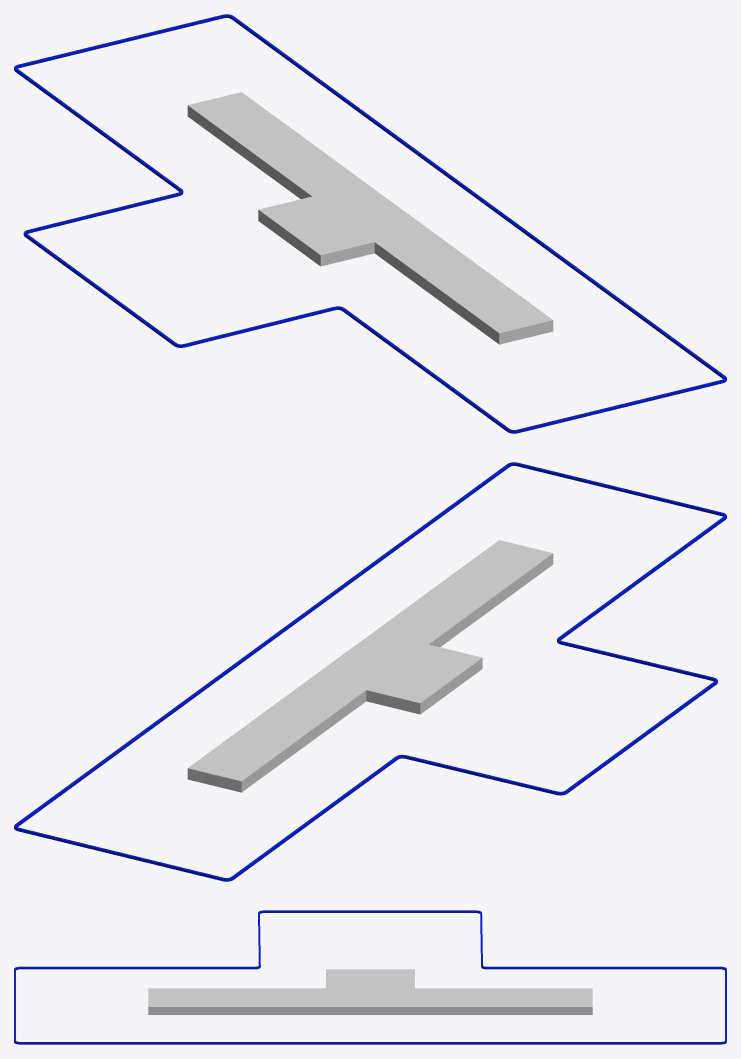
Rendered from snowplow_field.dae.
The picture shows the model from 3 angles, top to bottom: view 1: azimuth 30°, elevation 25°; view 2: azimuth 150°, elevation 25°; view 3: azimuth 270°, elevation 25°; orthographic projection. The views are drawn at different scales.
Visible parts, largest first — view 1: Snow1, Tubes.001, Snow2; view 2: Snow1, Tubes.001, Snow2; view 3: Snow1, Tubes.001, Snow2.
Boxes of the visible parts, bbox=[...] form: Snow1: bbox=[187, 92, 553, 344]; Tubes.001: bbox=[14, 14, 726, 433]; Snow2: bbox=[258, 196, 374, 266]; Snow1: bbox=[187, 540, 553, 792]; Tubes.001: bbox=[14, 462, 726, 881]; Snow2: bbox=[366, 644, 482, 714]; Snow1: bbox=[148, 988, 592, 1014]; Tubes.001: bbox=[14, 910, 726, 1044]; Snow2: bbox=[326, 969, 414, 988].
Size of the model in its own units: 7.04 by 16.04 by 0.2228.
